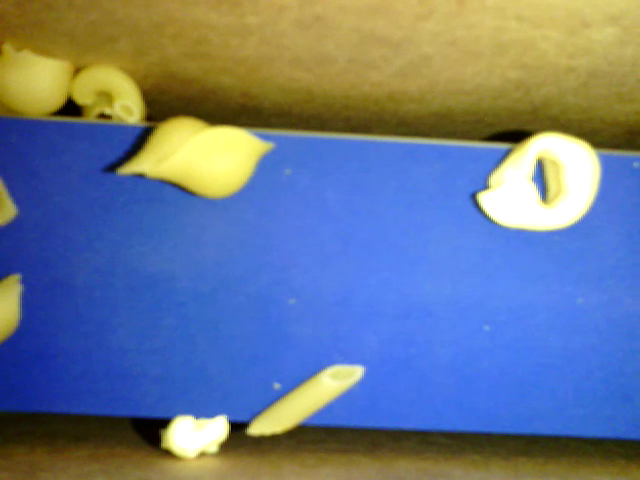elbow: (66, 65, 145, 121)
penne: (246, 363, 367, 437)
shell: (141, 124, 277, 201), (105, 116, 217, 177), (1, 41, 78, 117)
tortellini: (472, 128, 604, 231)
